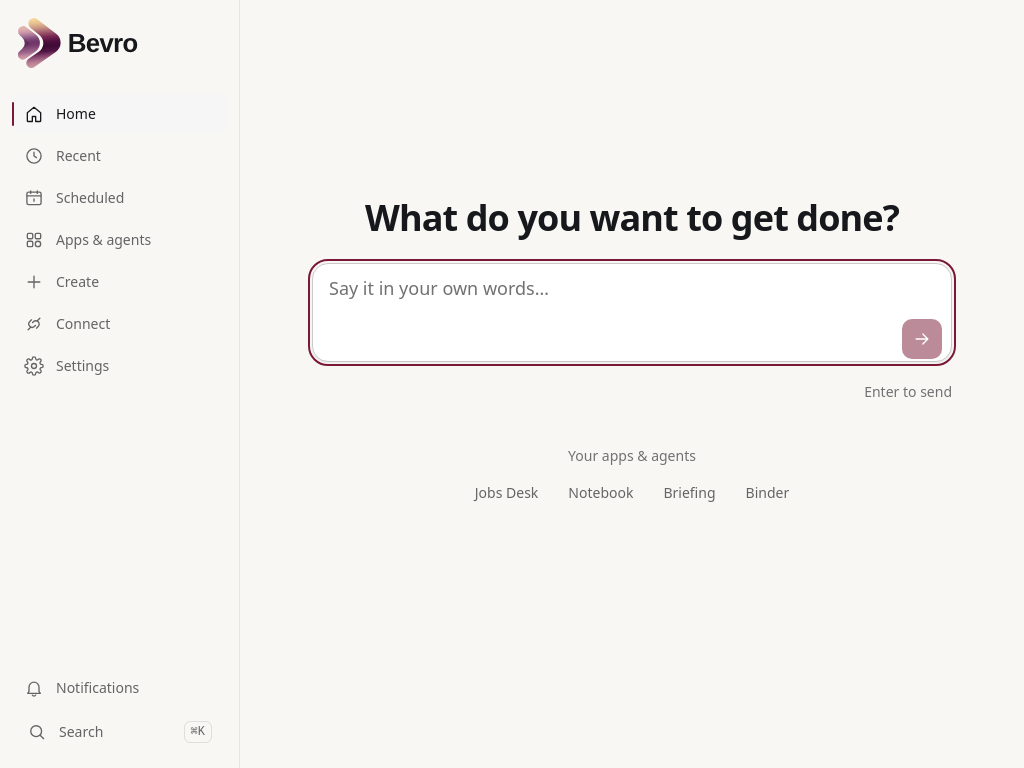
Test: a likely but not certain answer waits for the person before starting
In the text box named "What do you want to get done?": coordinates (632, 313) [312, 263, 952, 362], type "Sort out my shortlist"
Then press Enter
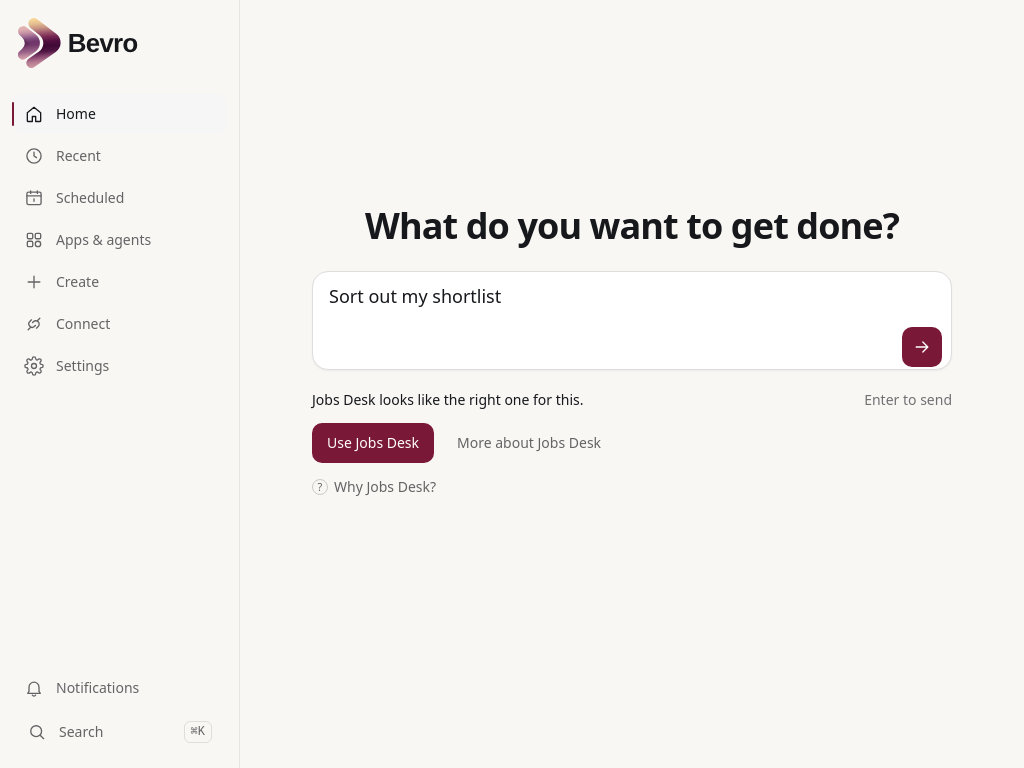
Click the button "Use Jobs Desk": coordinates (373, 443) [312, 423, 434, 463]
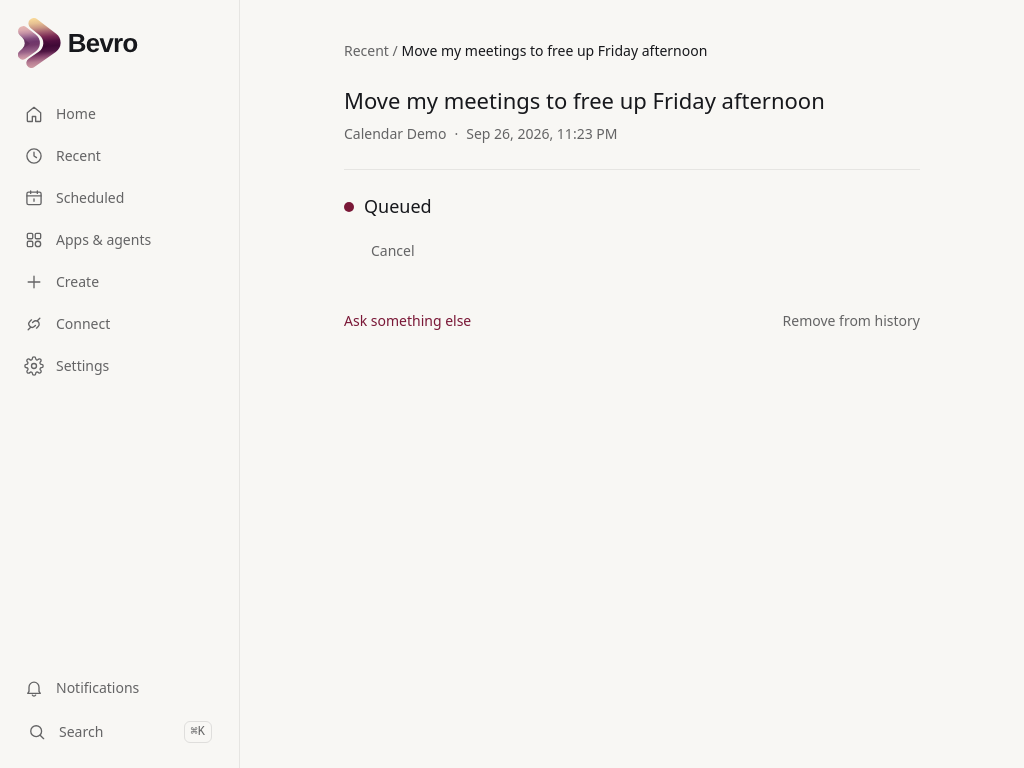
Expected: the heading "Move my meetings to free up Friday afternoon" is shown, [344, 85, 825, 115]
